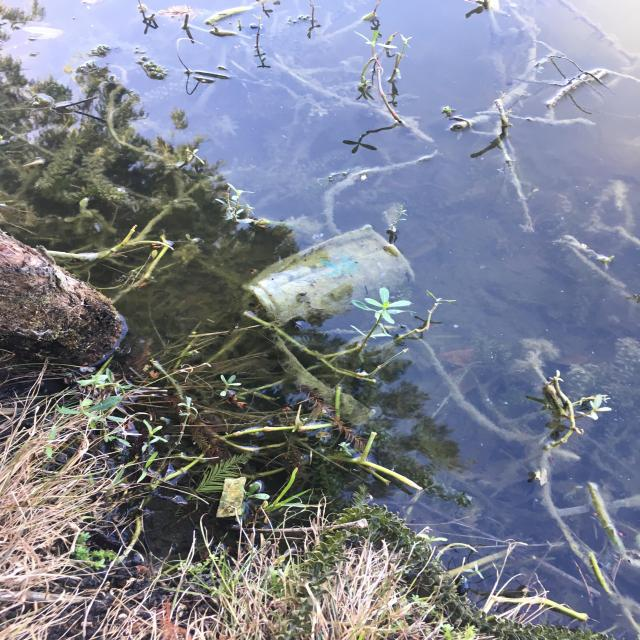litter: (242, 226, 416, 322), (215, 477, 246, 517)
